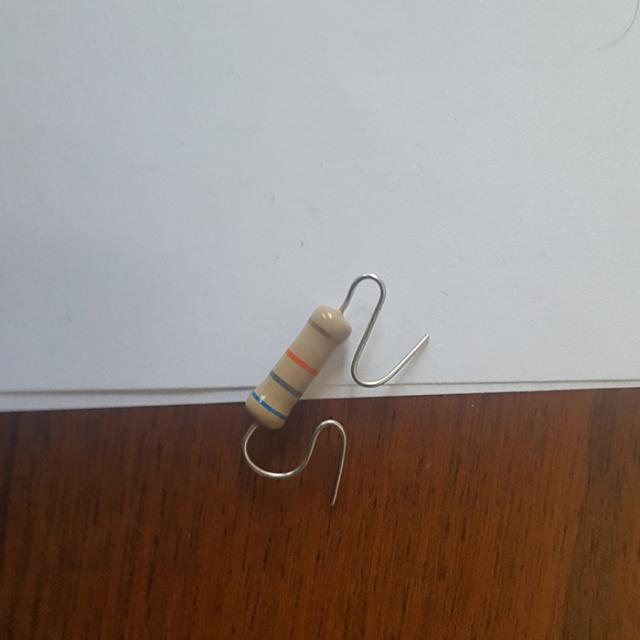blue: (251, 391, 285, 421)
gold: (307, 318, 340, 343)
grey: (270, 370, 302, 397)
orange: (285, 349, 315, 376)
resistor: (230, 290, 357, 449)
